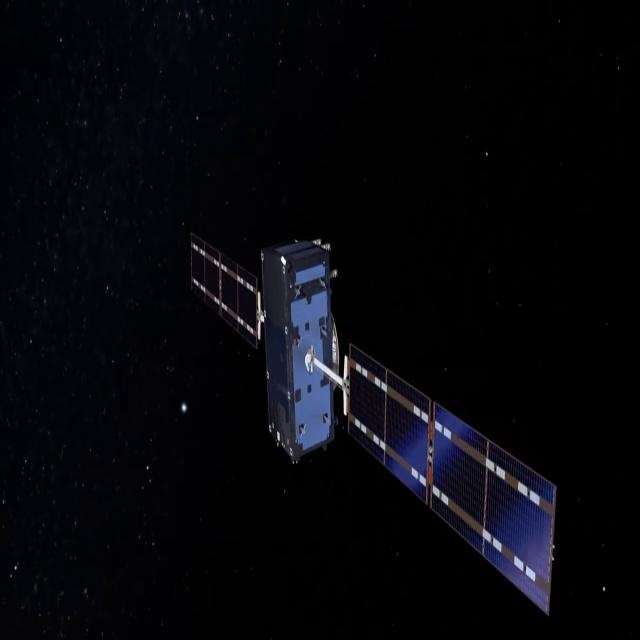satellite: (143, 172, 581, 608)
